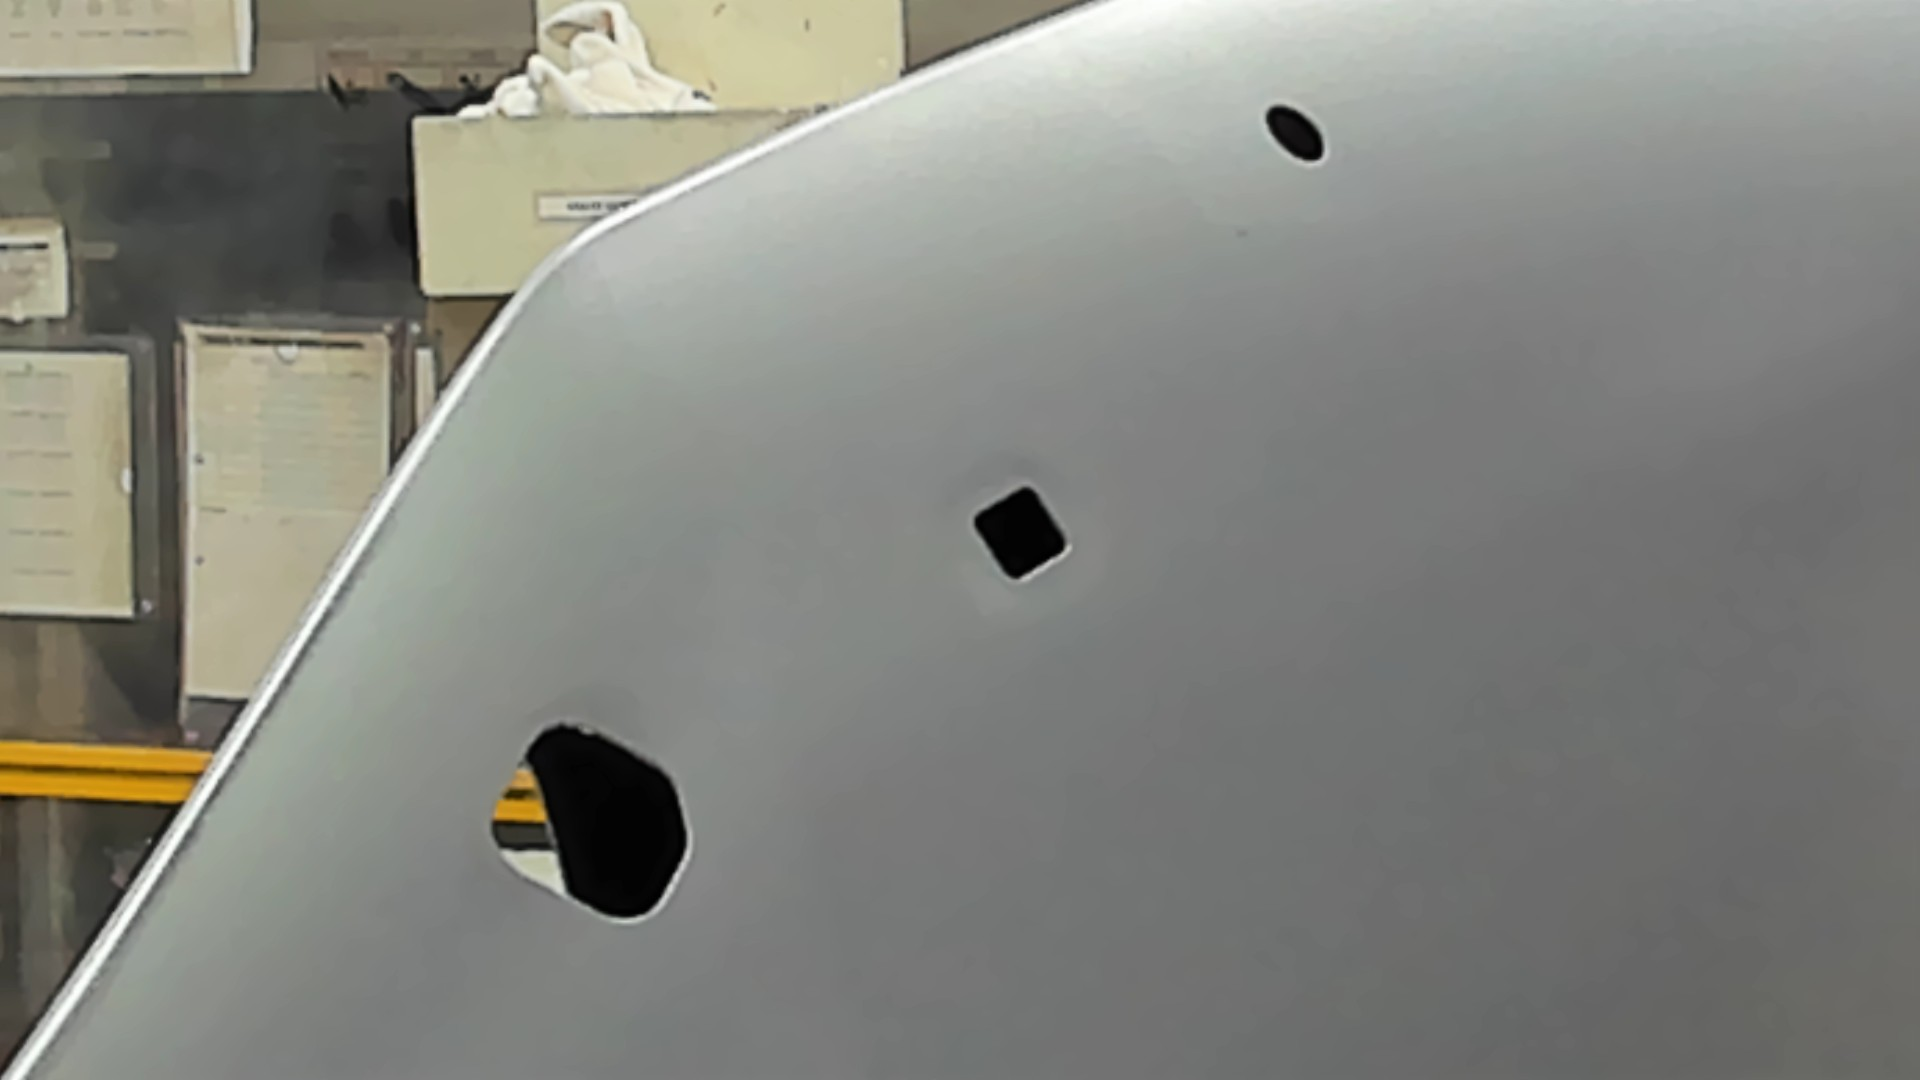chico: (1262, 102, 1331, 166)
grande: (487, 720, 695, 928)
mediano: (971, 483, 1072, 585)
